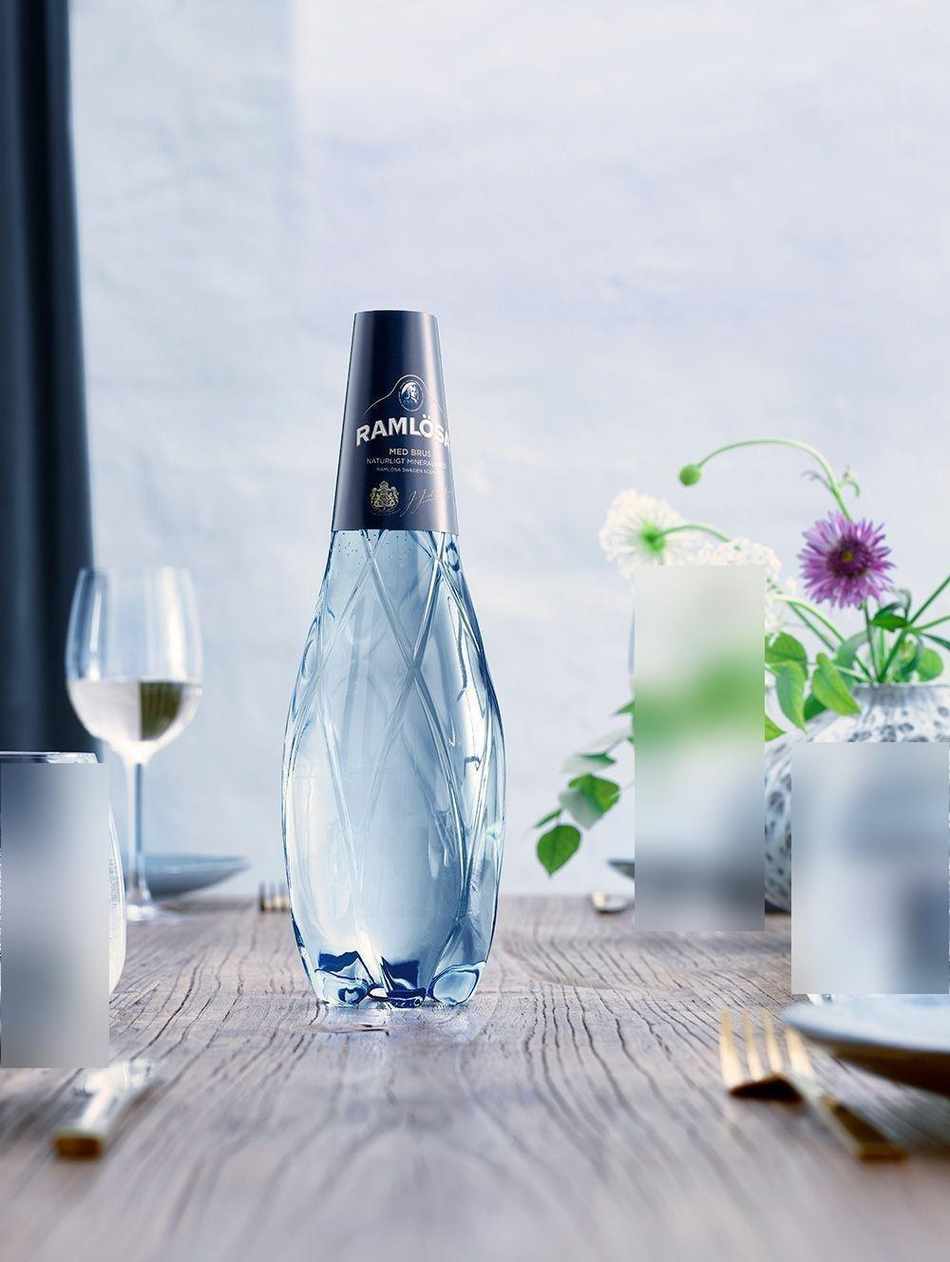bottle-glass: (276, 306, 513, 1023)
glass-wine: (63, 559, 218, 929)
